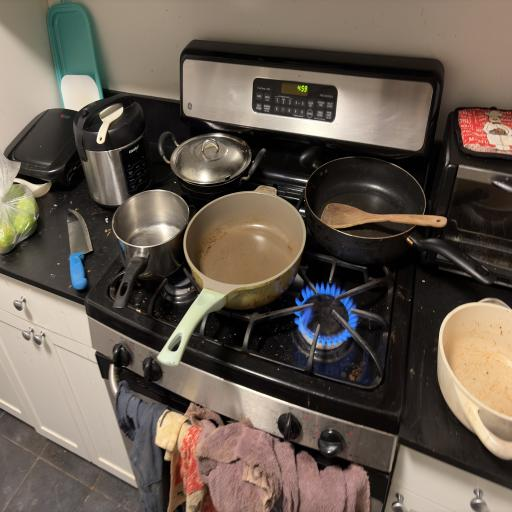Flame: (292, 272, 380, 363)
Pan: (156, 170, 308, 396), (295, 148, 445, 279), (432, 282, 512, 480), (104, 190, 194, 325), (162, 128, 277, 201)
Stove: (136, 138, 430, 408)
knife: (56, 210, 109, 288)
